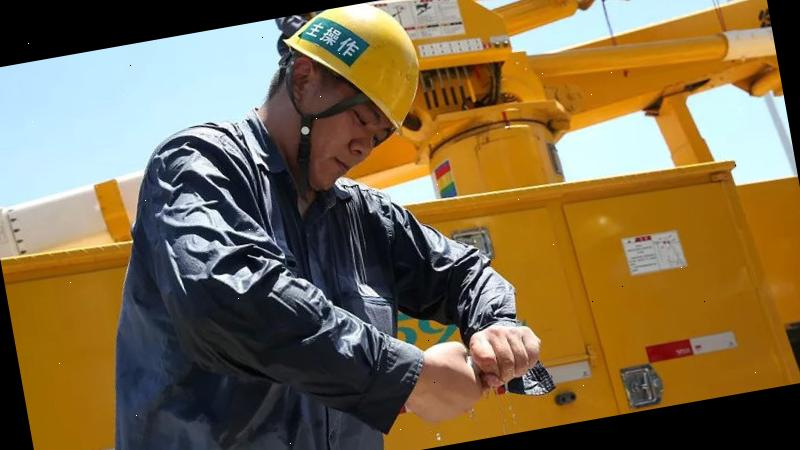helmet: (273, 0, 441, 150)
wear: (111, 168, 424, 450)
